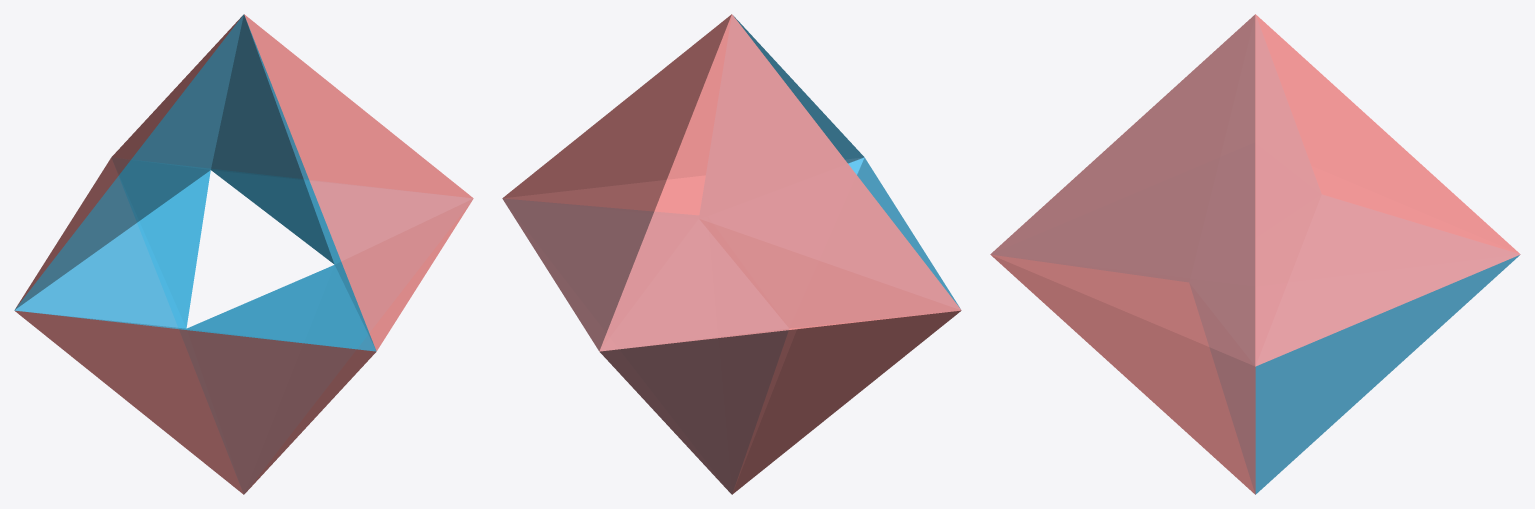
The model's file is RegularTriangularToroid_B.obj.
3 renders of one model, left to right at view 1: azimuth 30°, elevation 25°; view 2: azimuth 150°, elevation 25°; view 3: azimuth 270°, elevation 25°, orthographic.
Size of the model in its own units: 8 by 8 by 8.
